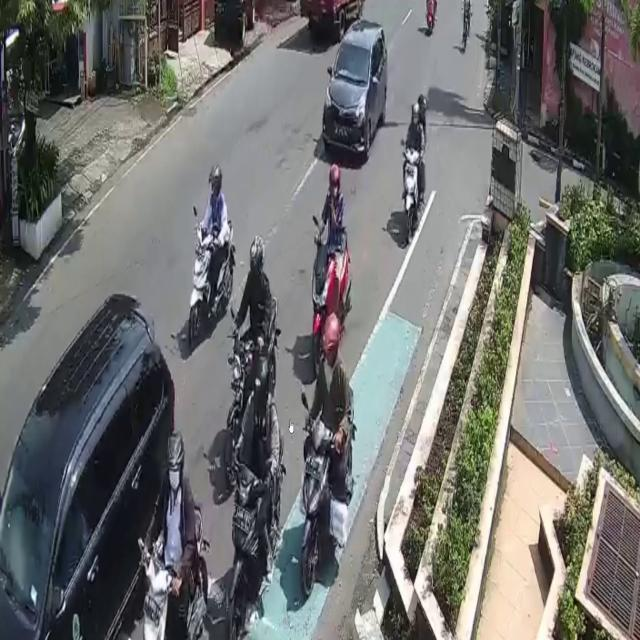bus: (228, 431, 280, 640), (142, 502, 206, 640), (189, 218, 235, 347), (228, 296, 280, 406), (303, 416, 330, 601), (313, 227, 350, 361), (402, 146, 424, 240)
motorcycle: (0, 291, 176, 640), (323, 19, 387, 164)
